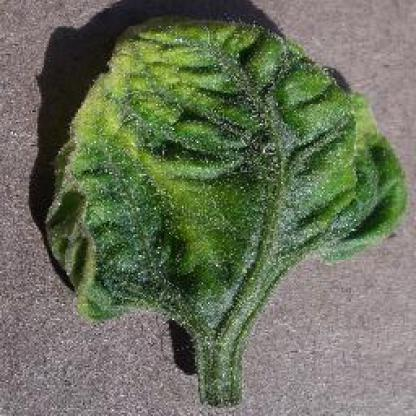bad leaf: (27, 26, 408, 412)
